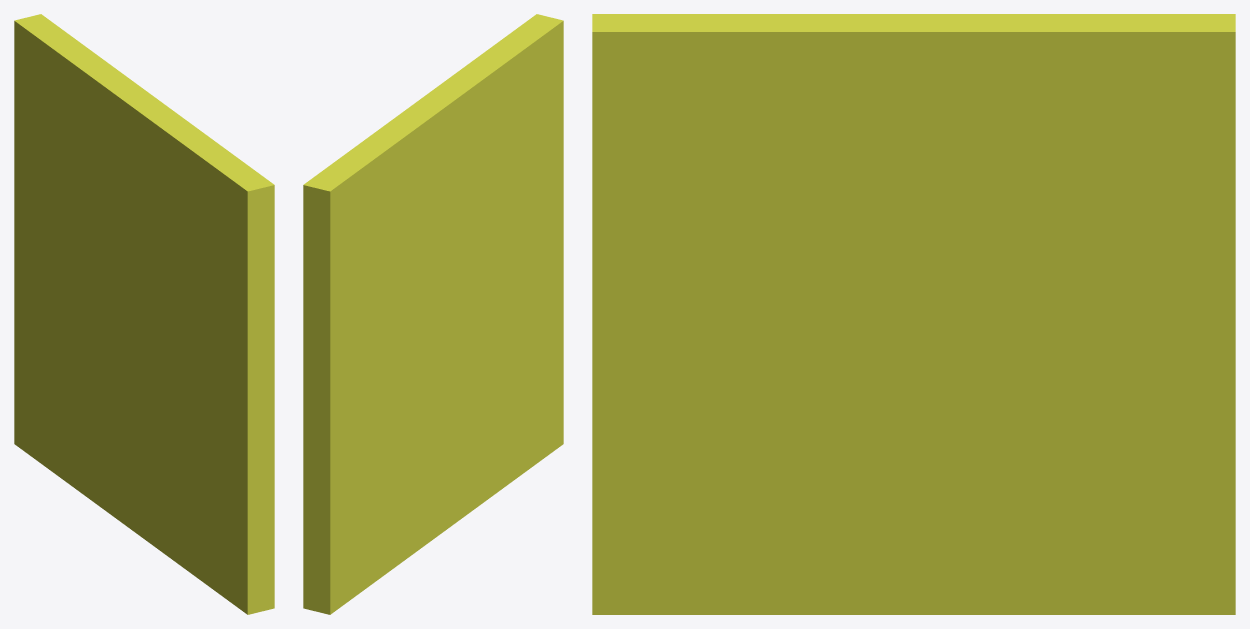
Rendered from Flugplatz_LOD02.gltf.
The picture shows the model from 3 angles, left to right: view 1: azimuth 30°, elevation 25°; view 2: azimuth 150°, elevation 25°; view 3: azimuth 270°, elevation 25°; orthographic projection. The views are drawn at different scales.
Visible parts, largest first — view 1: Cube.001; view 2: Cube.001; view 3: Cube.001.
Part boxes in pixels (x1,y1,x2,y2): Cube.001: (14, 14, 274, 614); Cube.001: (303, 14, 563, 614); Cube.001: (592, 14, 1235, 614).
Size of the model in its own units: 0.05 by 0.75 by 0.75.
